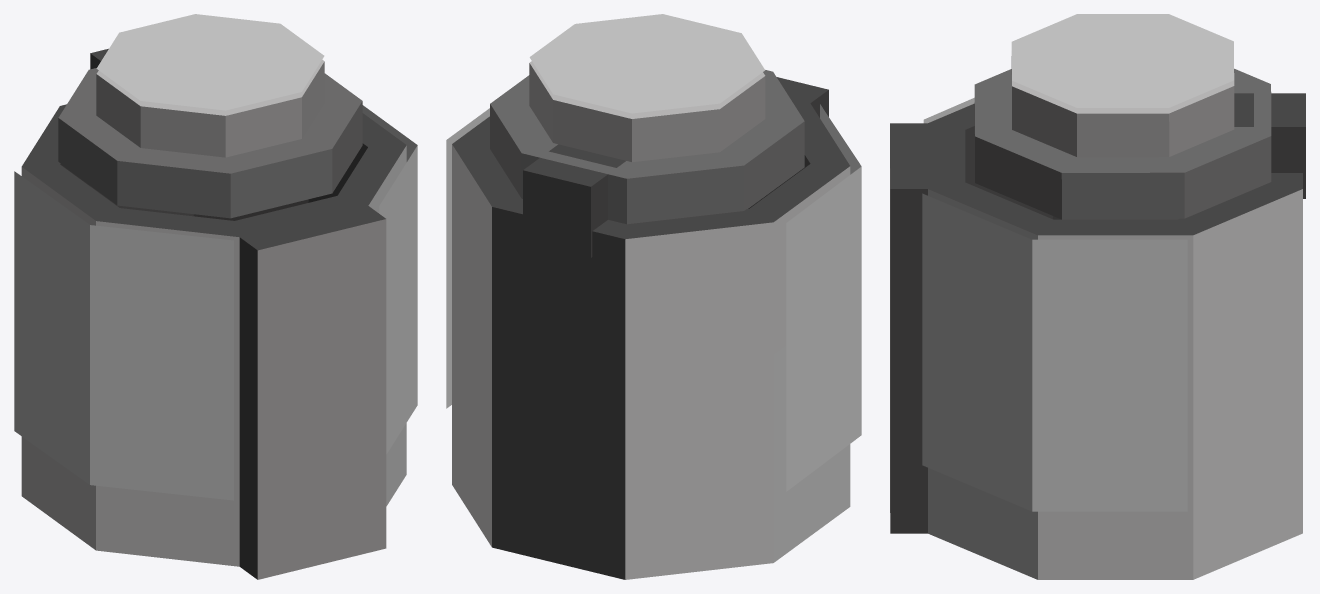
File: Pot.fbx
3 renders of one model, left to right at view 1: azimuth 30°, elevation 25°; view 2: azimuth 150°, elevation 25°; view 3: azimuth 270°, elevation 25°, orthographic. The views are drawn at different scales.
Visible parts, largest first — view 1: Pot, Item, LidPot; view 2: Pot, LidPot, Item; view 3: Pot, Item, LidPot.
Boxes of the visible parts, x1=… form: Pot: x1=21, y1=48, x2=406, y2=579; Item: x1=14, y1=105, x2=417, y2=500; LidPot: x1=58, y1=14, x2=362, y2=218; Pot: x1=452, y1=77, x2=850, y2=579; LidPot: x1=490, y1=14, x2=804, y2=224; Item: x1=446, y1=104, x2=861, y2=491; Pot: x1=890, y1=93, x2=1305, y2=579; Item: x1=922, y1=97, x2=1187, y2=511; LidPot: x1=974, y1=14, x2=1271, y2=219.
Size of the model in its own units: 4.15 by 4.84 by 3.96.
